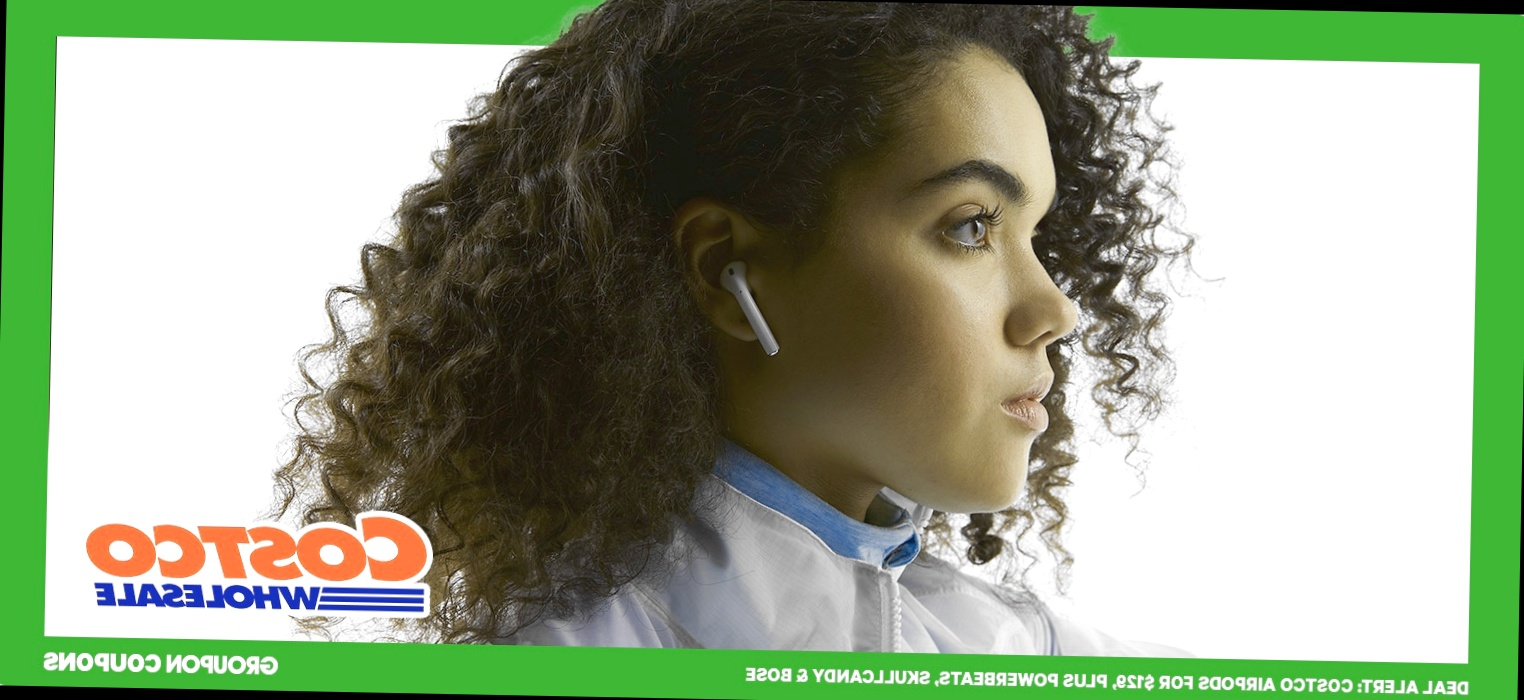earphone: (666, 197, 784, 344)
